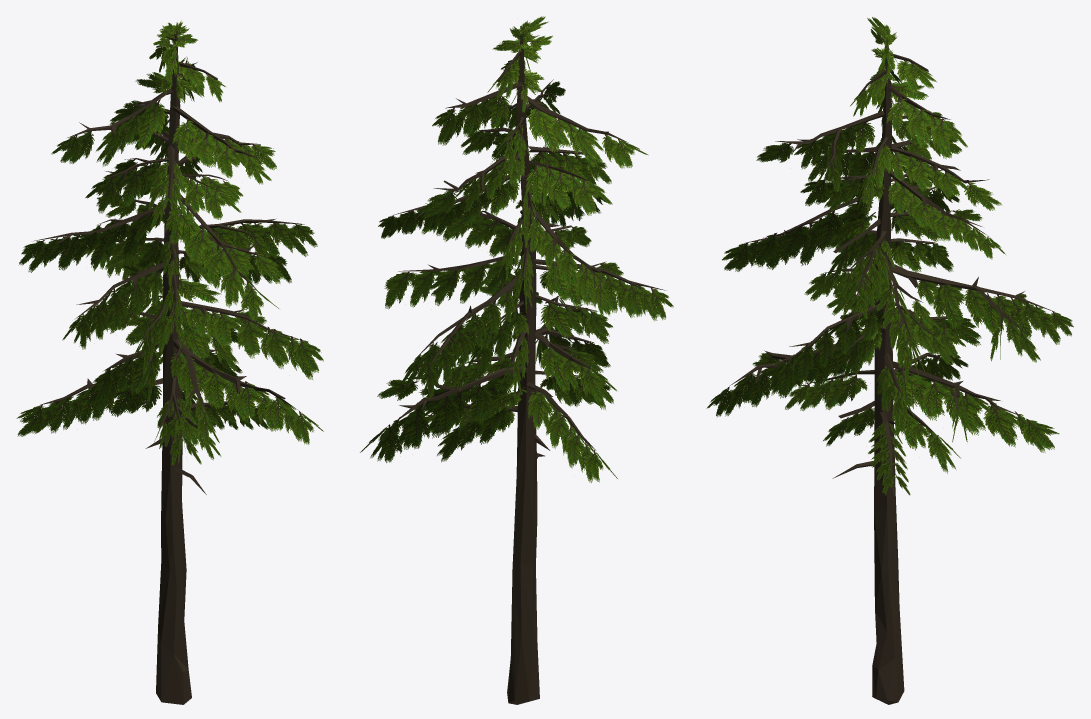
Rendered from pine_02.gltf.
3 renders of one model, left to right at view 1: azimuth 30°, elevation 25°; view 2: azimuth 150°, elevation 25°; view 3: azimuth 270°, elevation 25°, orthographic.
Visible parts, largest first — view 1: pine_02; view 2: pine_02; view 3: pine_02.
Boxes of the visible parts, left/top/right/bottom form: pine_02: left=16, top=20, right=323, bottom=704; pine_02: left=360, top=16, right=673, bottom=704; pine_02: left=706, top=17, right=1073, bottom=704.
Size of the model in its own units: 4.43 by 11.25 by 5.58.
Materials: 2 (2 with a texture image).
